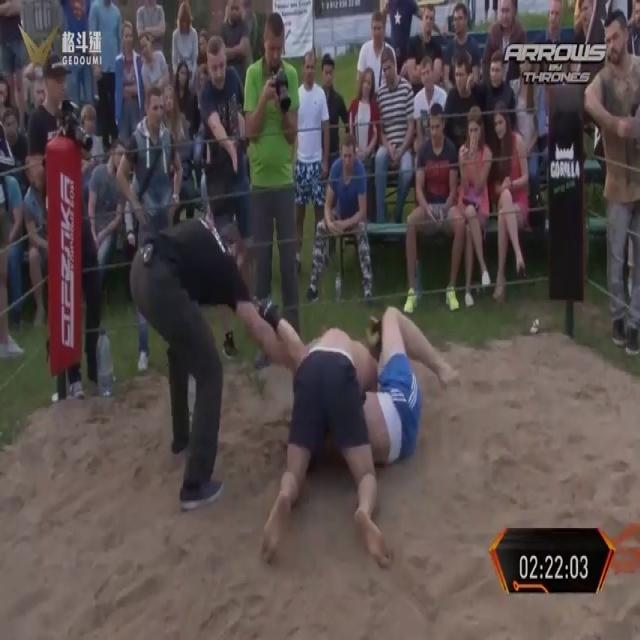fight: (259, 304, 456, 562)
non-fight: (128, 214, 302, 510), (26, 52, 100, 400), (193, 26, 252, 360), (243, 12, 300, 343), (586, 6, 640, 353), (404, 98, 465, 318), (310, 130, 371, 306), (488, 99, 528, 301), (90, 0, 122, 145)
